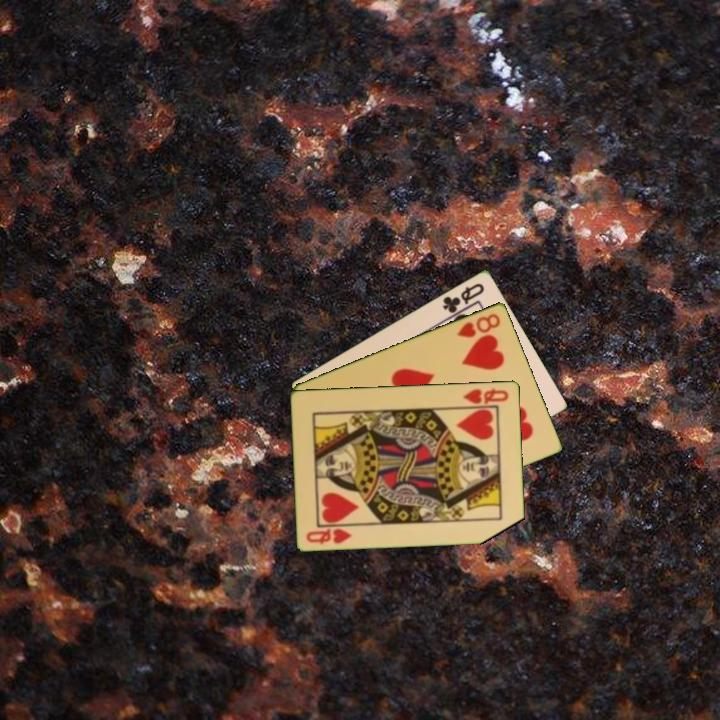8h: (454, 309, 503, 340)
Qc: (439, 279, 487, 320)
Qh: (303, 524, 355, 547), (460, 384, 512, 406)
